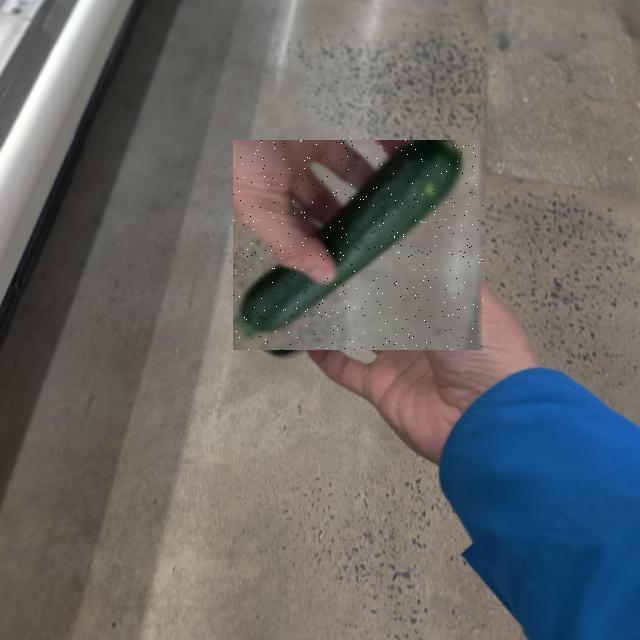Zuccini: (234, 141, 484, 351)
